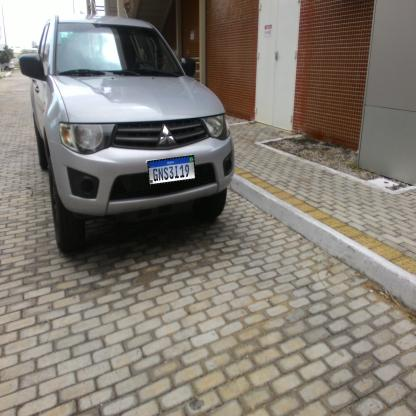PlacaM: (147, 155, 196, 186)
